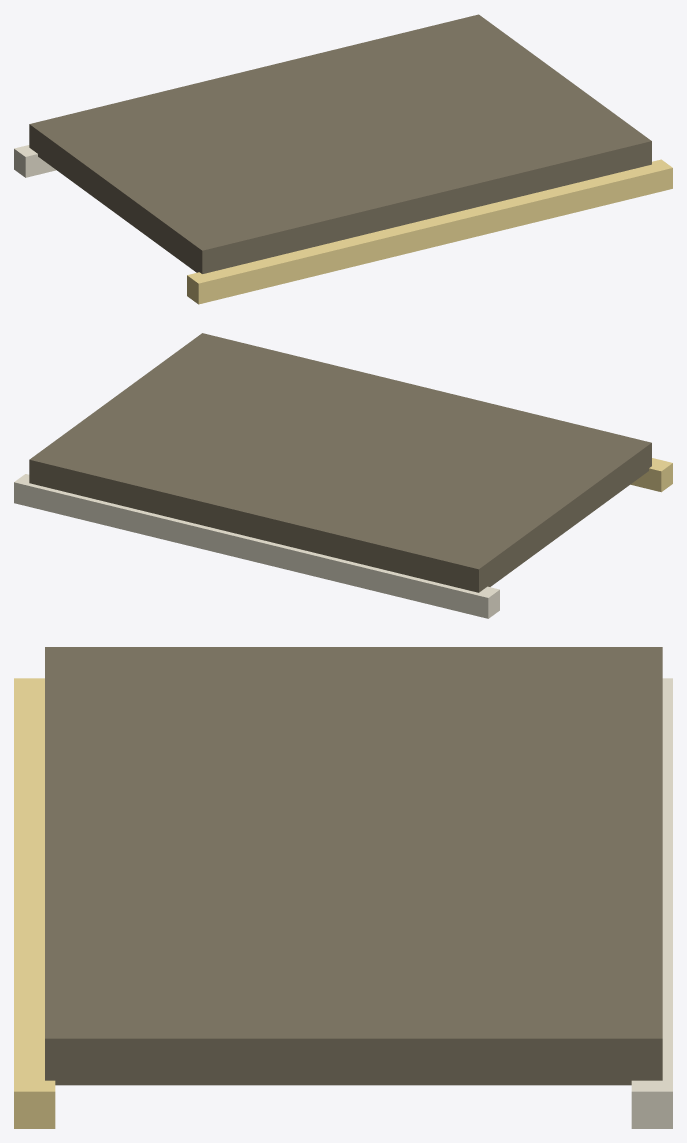
File: 01_world_facade.glb
3 renders of one model, top to bottom at view 1: azimuth 30°, elevation 25°; view 2: azimuth 150°, elevation 25°; view 3: azimuth 270°, elevation 25°, orthographic. The views are drawn at different scales.
Parts seen in each view (by area): view 1: wall_panel_upgrade, trim_top, trim_bottom; view 2: wall_panel_upgrade, trim_bottom, trim_top; view 3: wall_panel_upgrade, trim_top, trim_bottom.
Boxes of the visible parts, x1,y1,x2,y2 form: wall_panel_upgrade: (29,14,651,273); trim_top: (187,159,672,304); trim_bottom: (14,145,56,177); wall_panel_upgrade: (29,333,651,592); trim_bottom: (14,474,499,618); trim_top: (630,458,672,492); wall_panel_upgrade: (45,647,662,1085); trim_top: (14,678,55,1128); trim_bottom: (631,678,672,1128).
Bounding box in the file's own units: 1.9 × 0.17 × 1.28.
